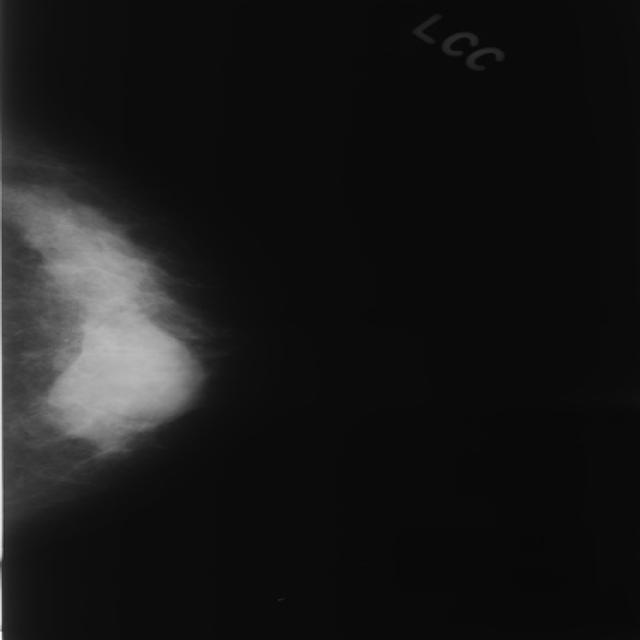tumour: (72, 331, 199, 416)
